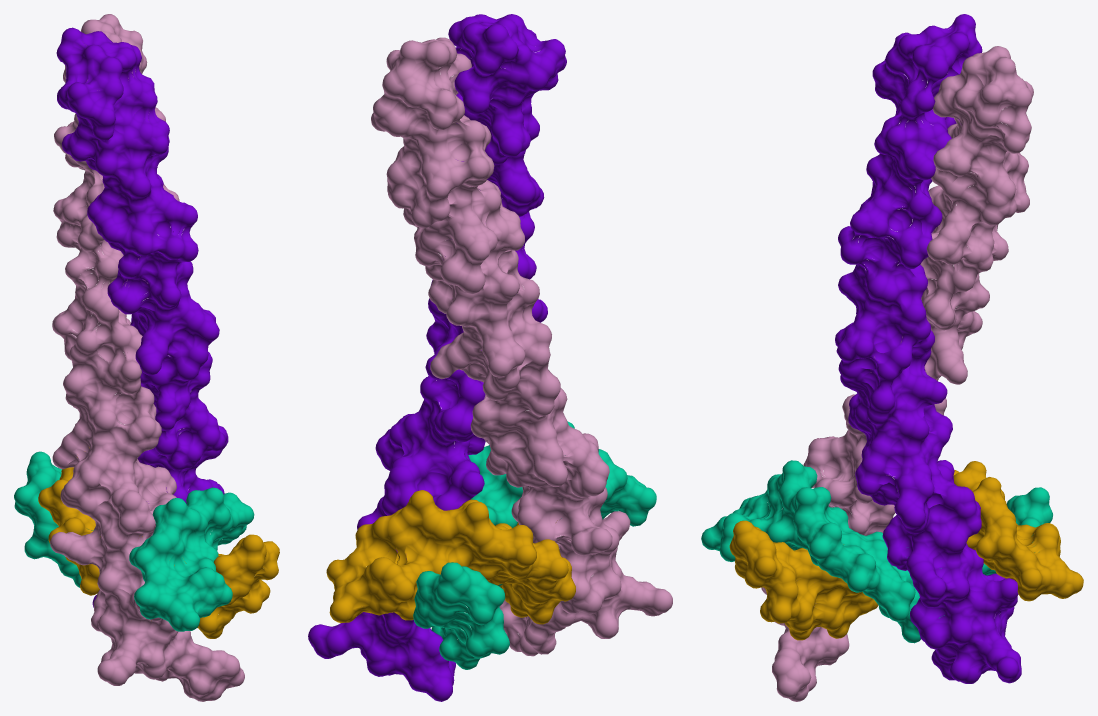
Rendered from all-surfaces.glb.
3 views of the same model, side by side, from view 1: azimuth 30°, elevation 25°; view 2: azimuth 150°, elevation 25°; view 3: azimuth 270°, elevation 25° (orthographic). The views are drawn at different scales.
Parts seen in each view (by area): view 1: vmd_mol0_rep5, vmd_mol0_rep6, vmd_mol0_rep3, vmd_mol0_rep2; view 2: vmd_mol0_rep5, vmd_mol0_rep6, vmd_mol0_rep2, vmd_mol0_rep3; view 3: vmd_mol0_rep6, vmd_mol0_rep5, vmd_mol0_rep2, vmd_mol0_rep3.
Part boxes in pixels (box(x1,y1,x2,y2)): vmd_mol0_rep5: box(50, 14, 244, 701); vmd_mol0_rep6: box(56, 27, 228, 607); vmd_mol0_rep3: box(14, 451, 254, 631); vmd_mol0_rep2: box(38, 447, 279, 638); vmd_mol0_rep5: box(371, 37, 672, 656); vmd_mol0_rep6: box(308, 14, 566, 701); vmd_mol0_rep2: box(326, 490, 575, 624); vmd_mol0_rep3: box(413, 421, 656, 669); vmd_mol0_rep6: box(835, 14, 1021, 683); vmd_mol0_rep5: box(761, 46, 1033, 701); vmd_mol0_rep2: box(729, 461, 1083, 640); vmd_mol0_rep3: box(701, 460, 1052, 643).
Size of the model in its own units: 0.6736 by 1.93 by 1.02.
